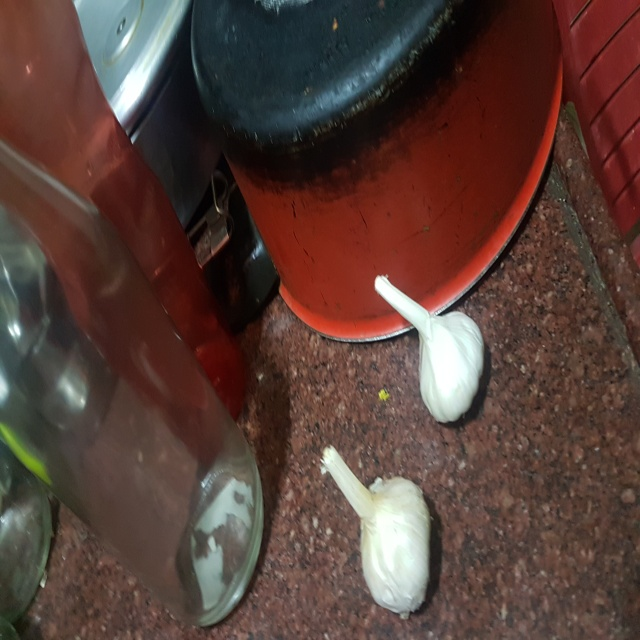garlic: (310, 444, 458, 633), (358, 269, 512, 430)
